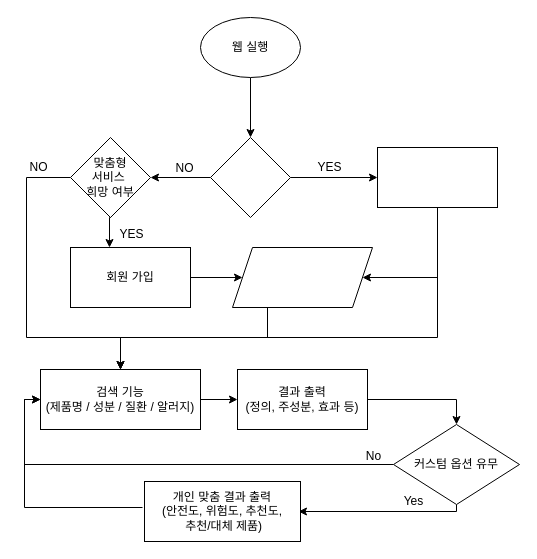
The diagram is 537 pixels wide and 559 high, and some of its shapes have lost their labels. The shapes that lost their labels are listed below. From the top down, each one's centre as x and y in pixels, then its label:
the point at 250,177: 회원 유무
the point at 437,177: 로그인
the point at 302,277: 커스텀 옵션 수정 (알러지, 질환 등 저장)
